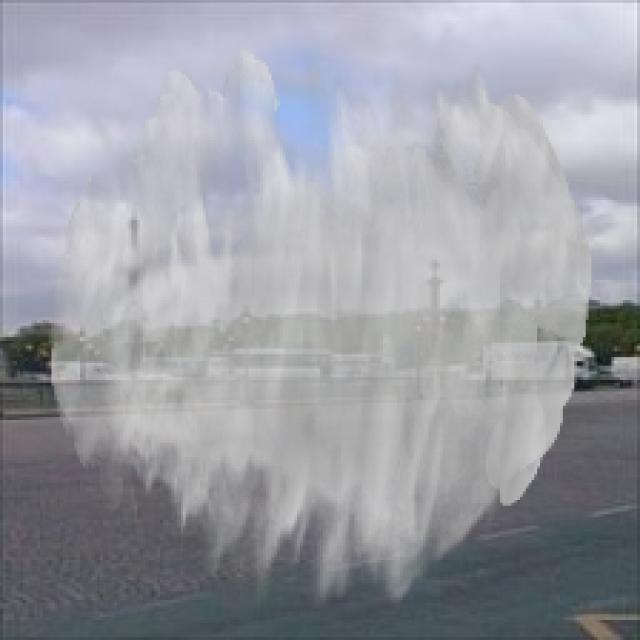Smoke: (49, 49, 592, 608)
